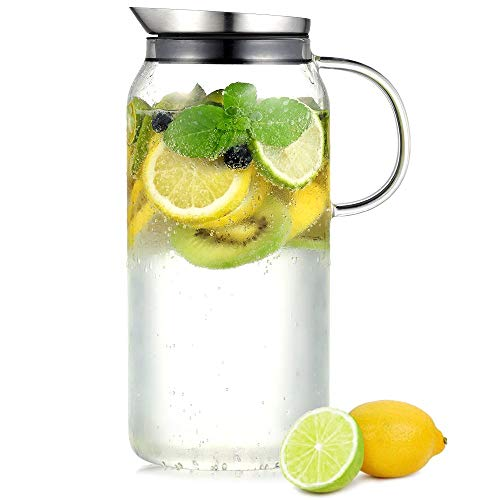glass of water: (129, 67, 337, 474)
